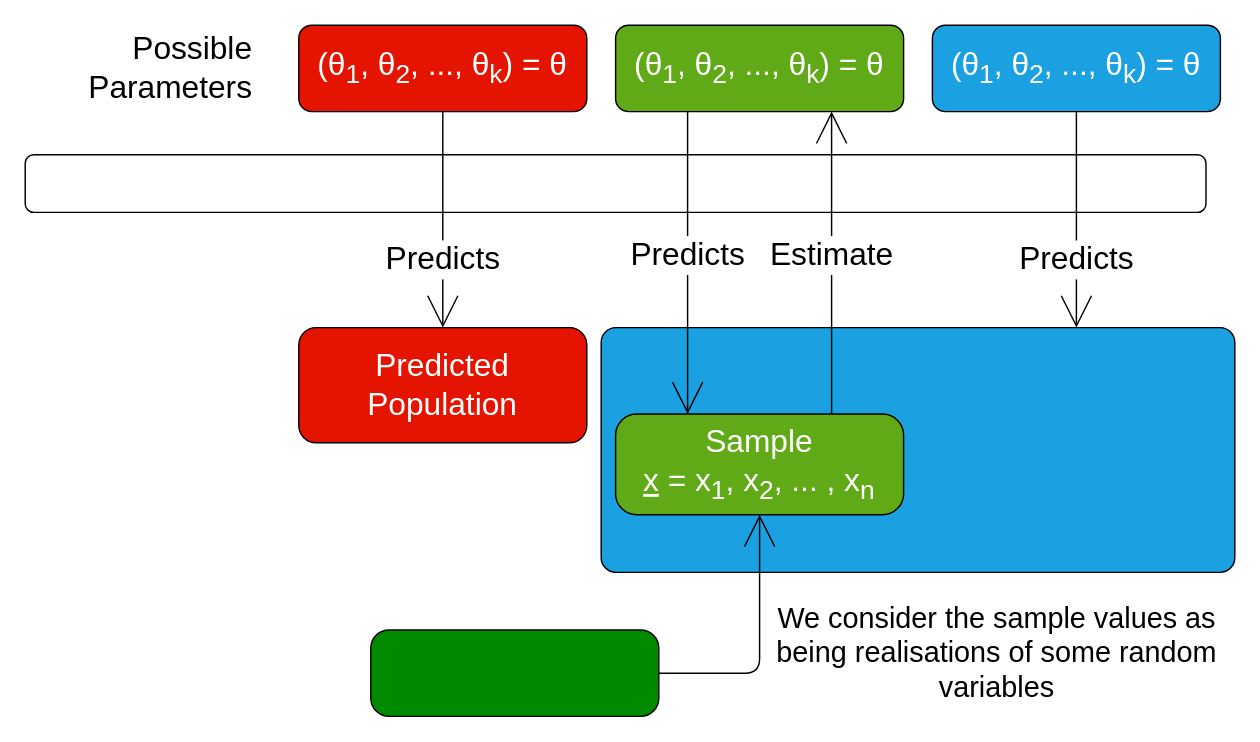
Image size: 1260x742. Some labels were removed from this diagram. The box of each missing label's shape, as (x1, y1, x2, y2) in pixels:
Parametric Model: (24, 153, 1206, 212)
Population: (600, 326, 1235, 572)
Random Variables X = X 1 , X 2 , ... , X n: (369, 629, 659, 716)
